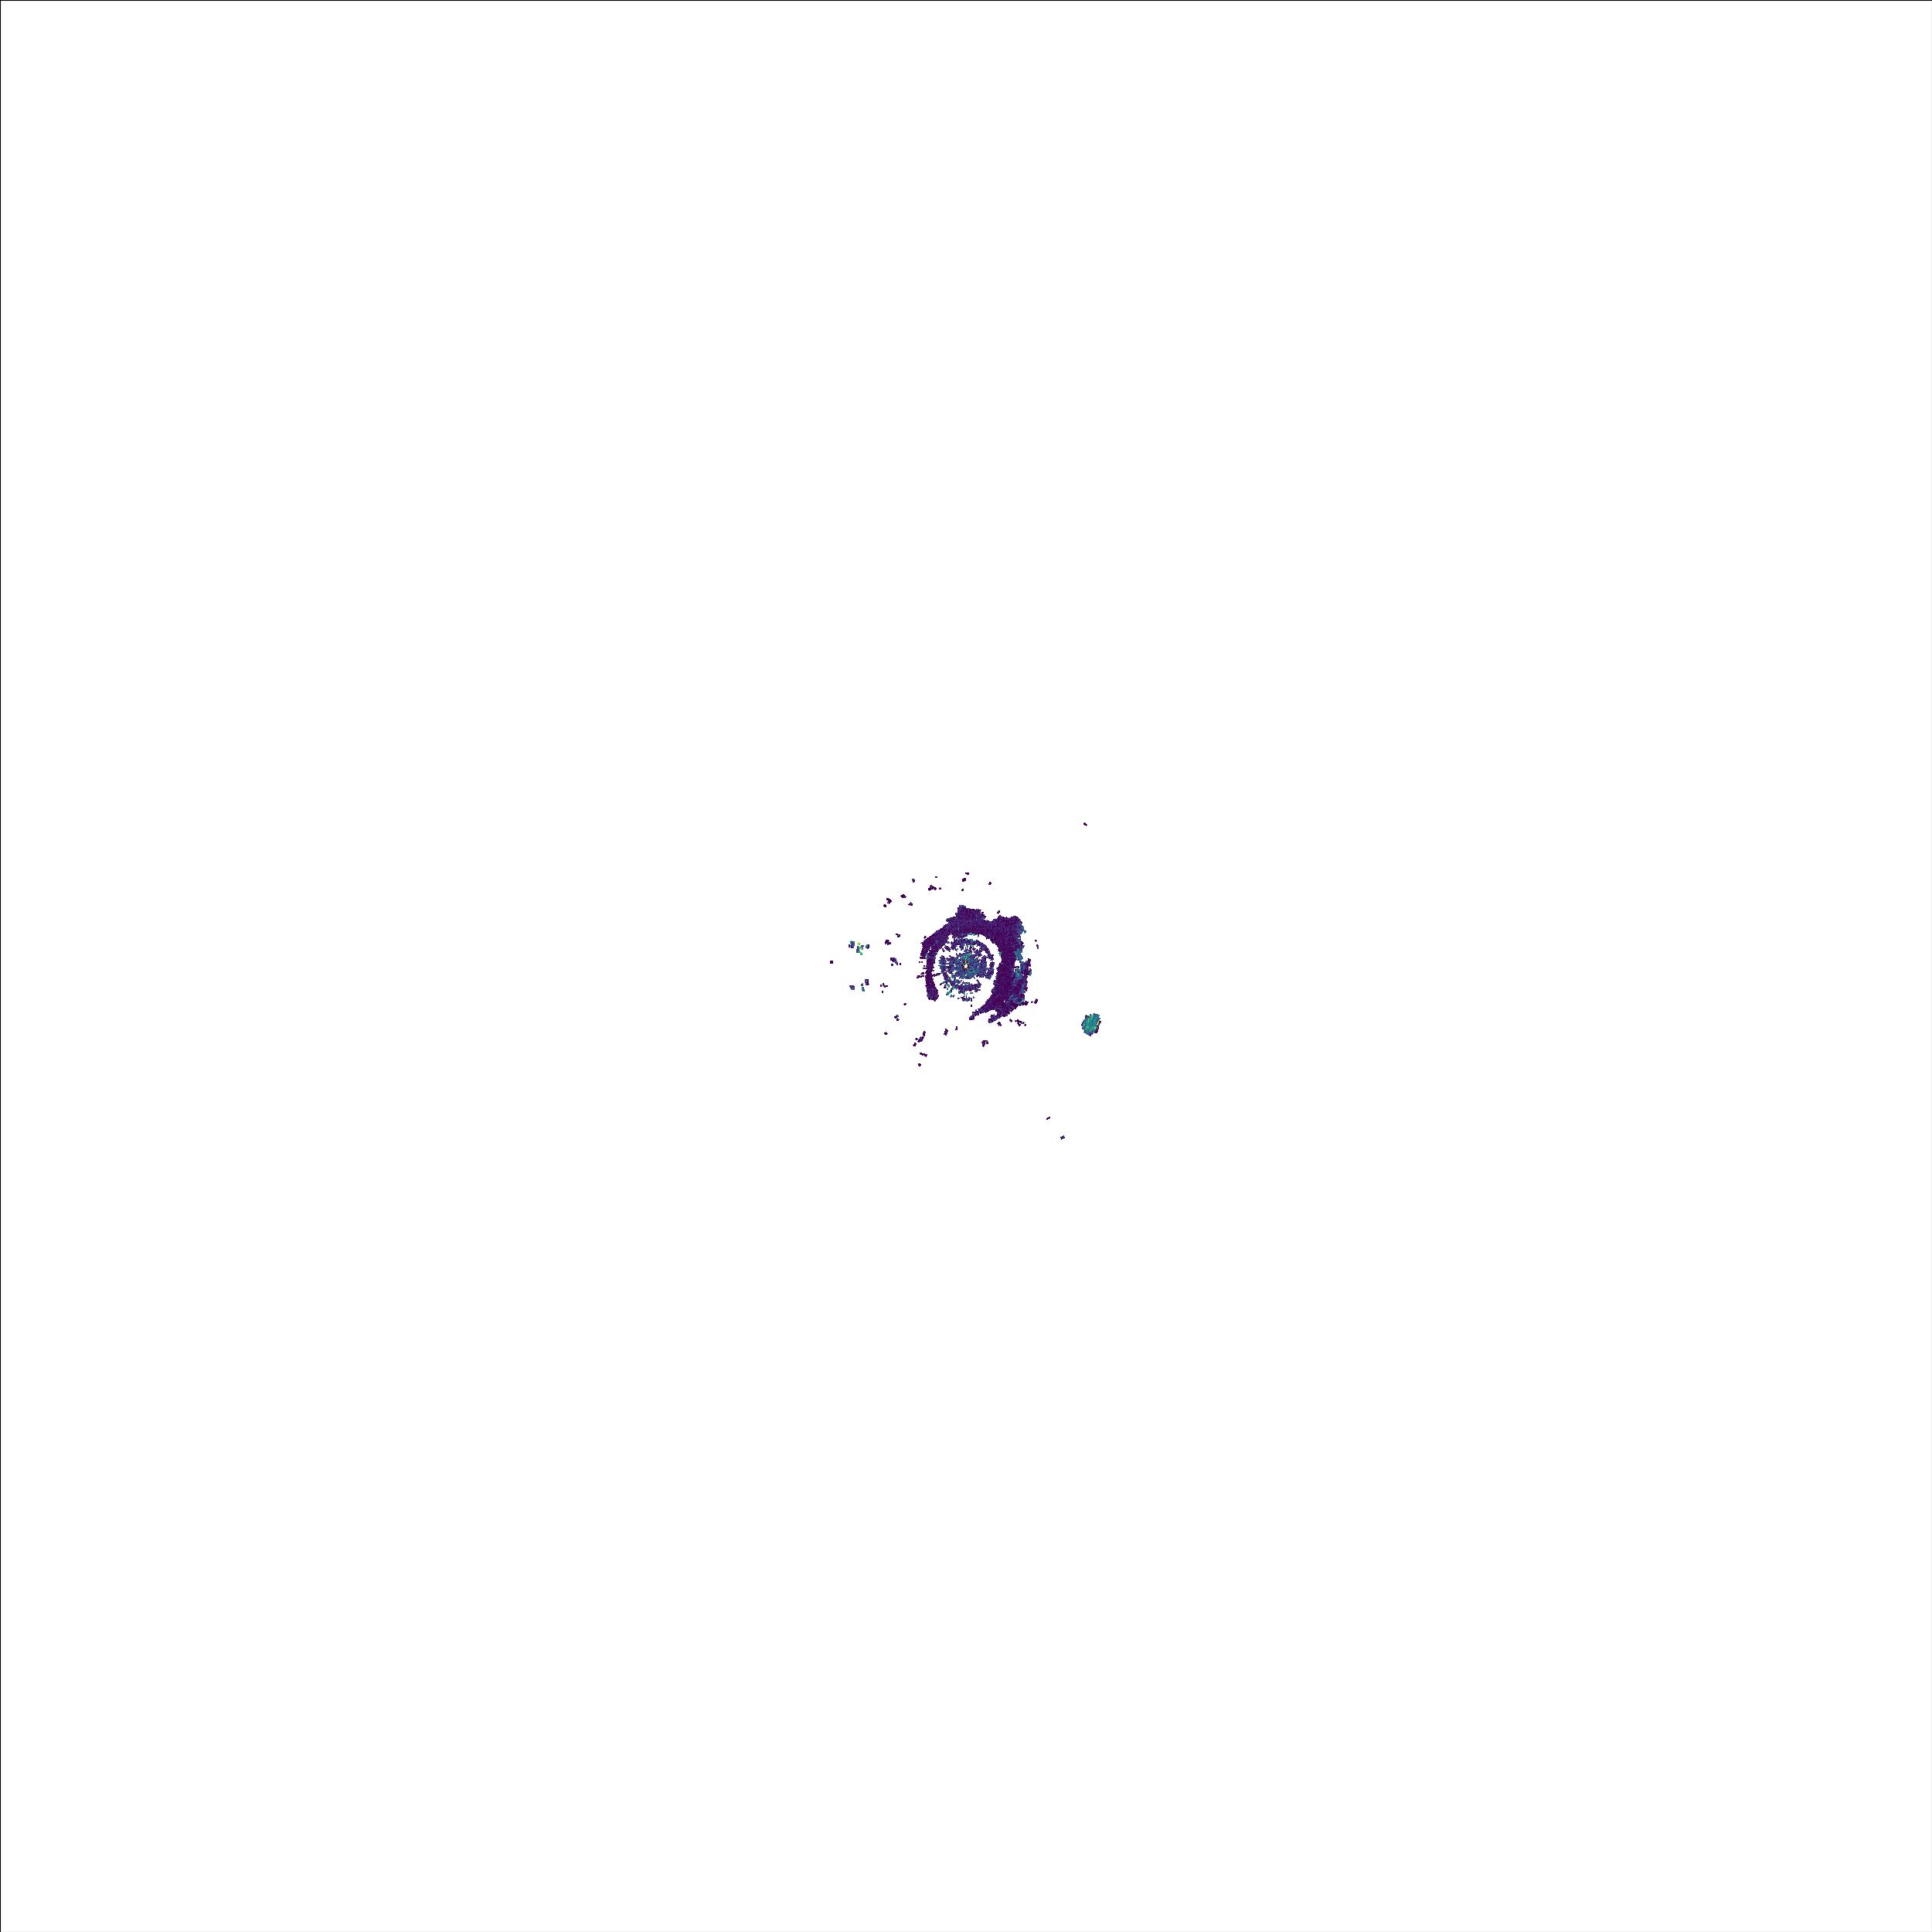fall: (1079, 1008, 1104, 1039)
